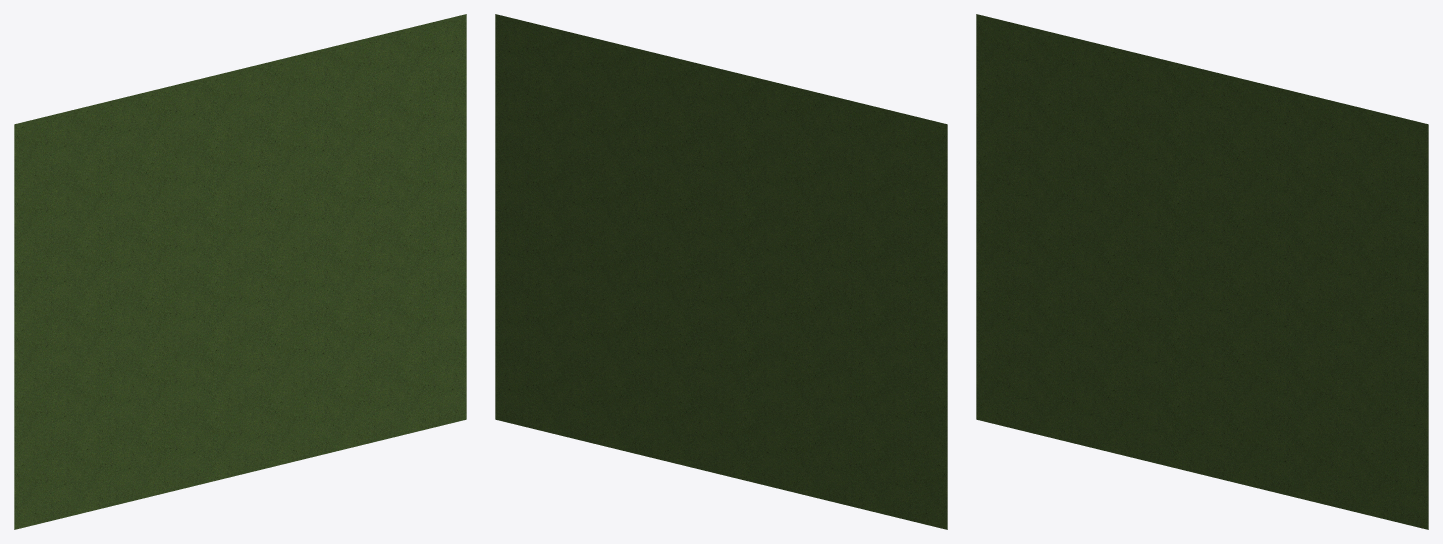
The model's file is east_village.obj.
3 renders of one model, left to right at view 1: azimuth 30°, elevation 25°; view 2: azimuth 150°, elevation 25°; view 3: azimuth 330°, elevation 25°, orthographic.
Visible parts, largest first — view 1: east_village; view 2: east_village; view 3: east_village.
Boxes of the visible parts, x1=… form: east_village: x1=14, y1=14, x2=466, y2=529; east_village: x1=495, y1=14, x2=947, y2=529; east_village: x1=976, y1=14, x2=1428, y2=529.
Bounding box in the file's own units: 14 × 12 × 0.0032.
1 material, 1 textured.
